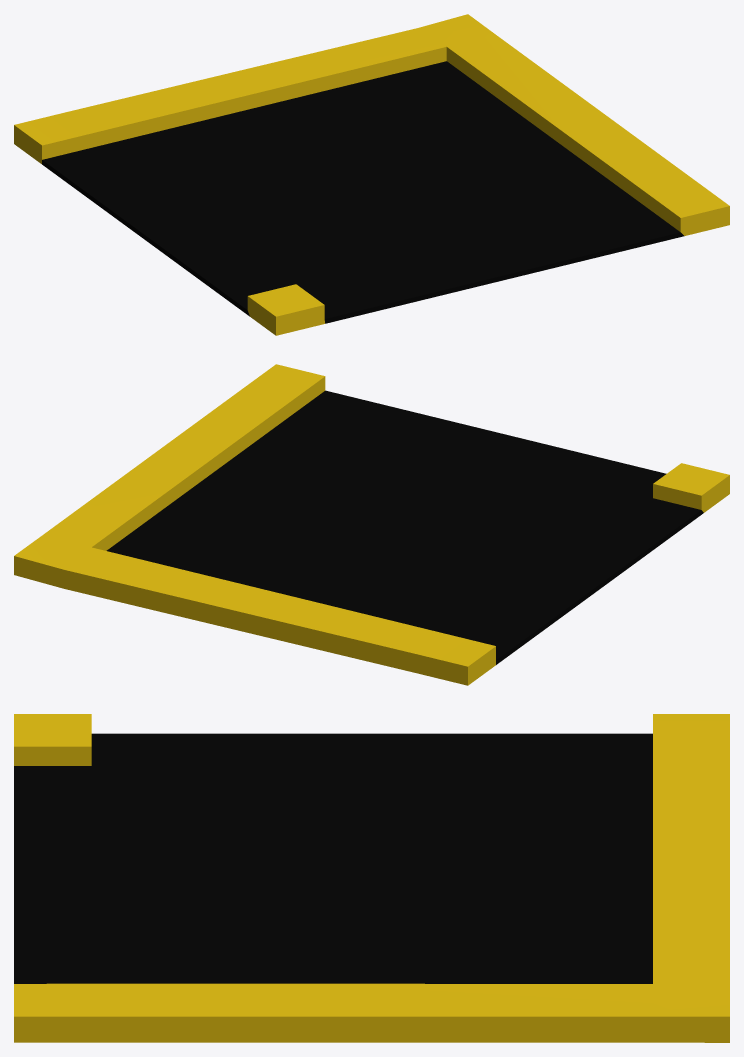
The model's file is Corner_MD.fbx.
3 renders of one model, top to bottom at view 1: azimuth 30°, elevation 25°; view 2: azimuth 150°, elevation 25°; view 3: azimuth 270°, elevation 25°, orthographic. The views are drawn at different scales.
Parts seen in each view (by area): view 1: polySurface5; view 2: polySurface5; view 3: polySurface5.
Part boxes in pixels (bbox=[...]): polySurface5: bbox=[14, 14, 729, 335]; polySurface5: bbox=[14, 364, 729, 685]; polySurface5: bbox=[14, 714, 729, 1042].
Size of the model in its own units: 100 by 4.37 by 100.
